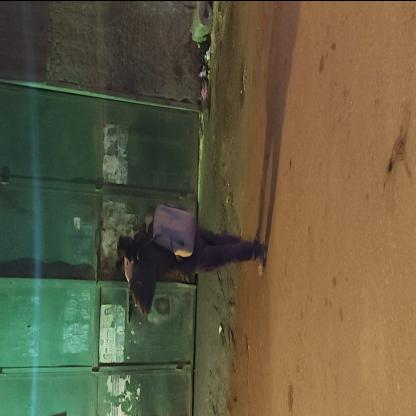long weapon: (117, 221, 157, 273)
